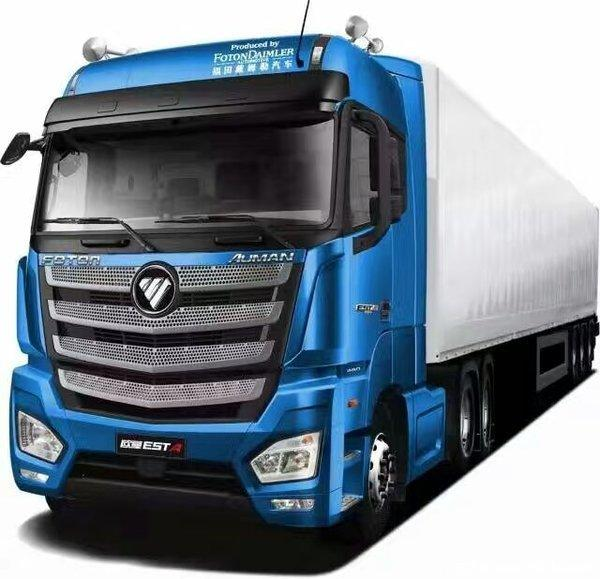truck: (5, 19, 600, 548)
